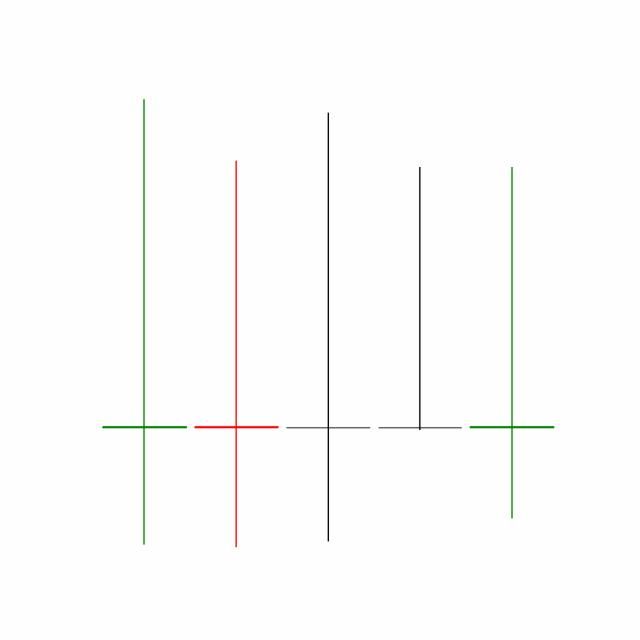Gravestone Doji: (373, 163, 467, 433)
